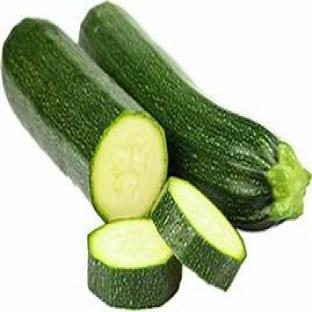Zucchini: (79, 2, 309, 229), (3, 19, 167, 220), (152, 178, 245, 290), (89, 220, 182, 308)
